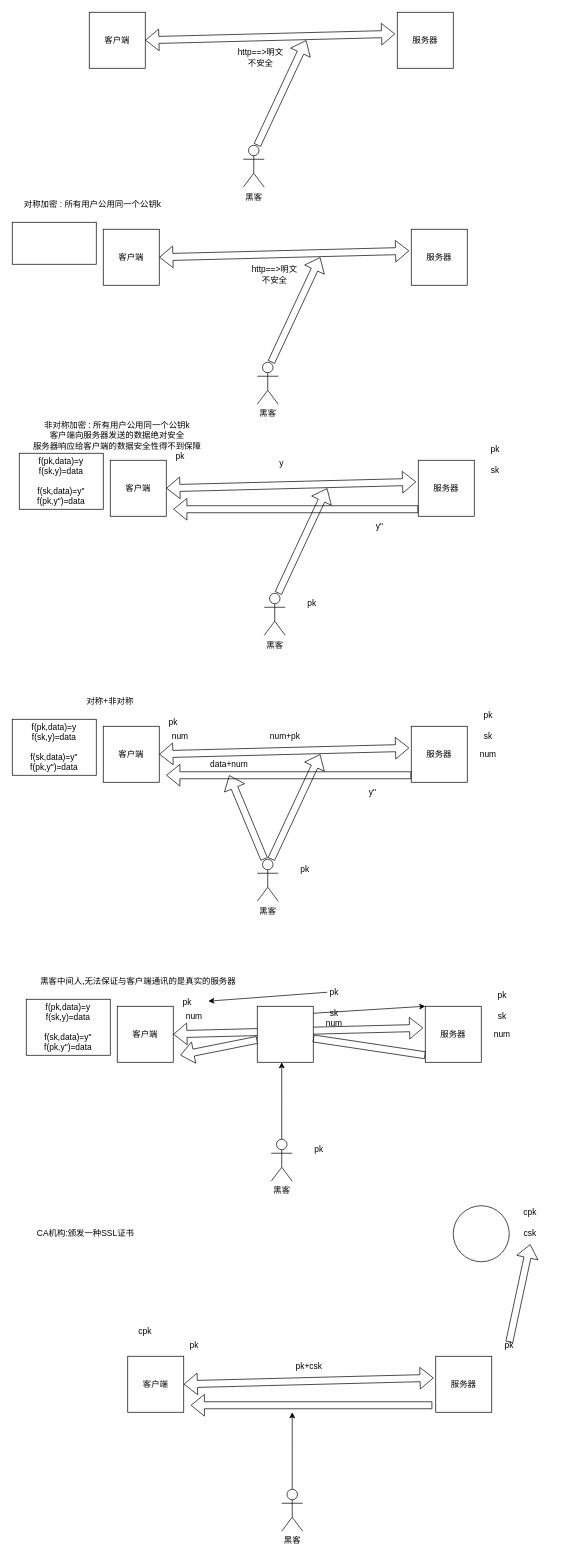
The diagram is 564 pixels wide and 1558 high, and some of its shapes have lost their labels. Each missing label, with the centre of its shape:
"CA机构 ssl/tls" belongs at [481,1233].
"f1(k,data)=x f2(k,x)=data" belongs at [54,243].
"中间人 代理服务器" belongs at [285,1034].
